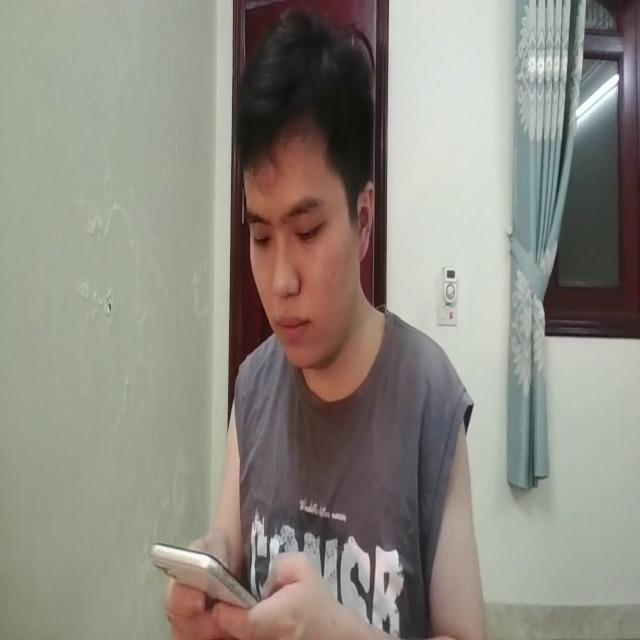phone: (153, 528, 266, 628)
student: (138, 3, 489, 640)
